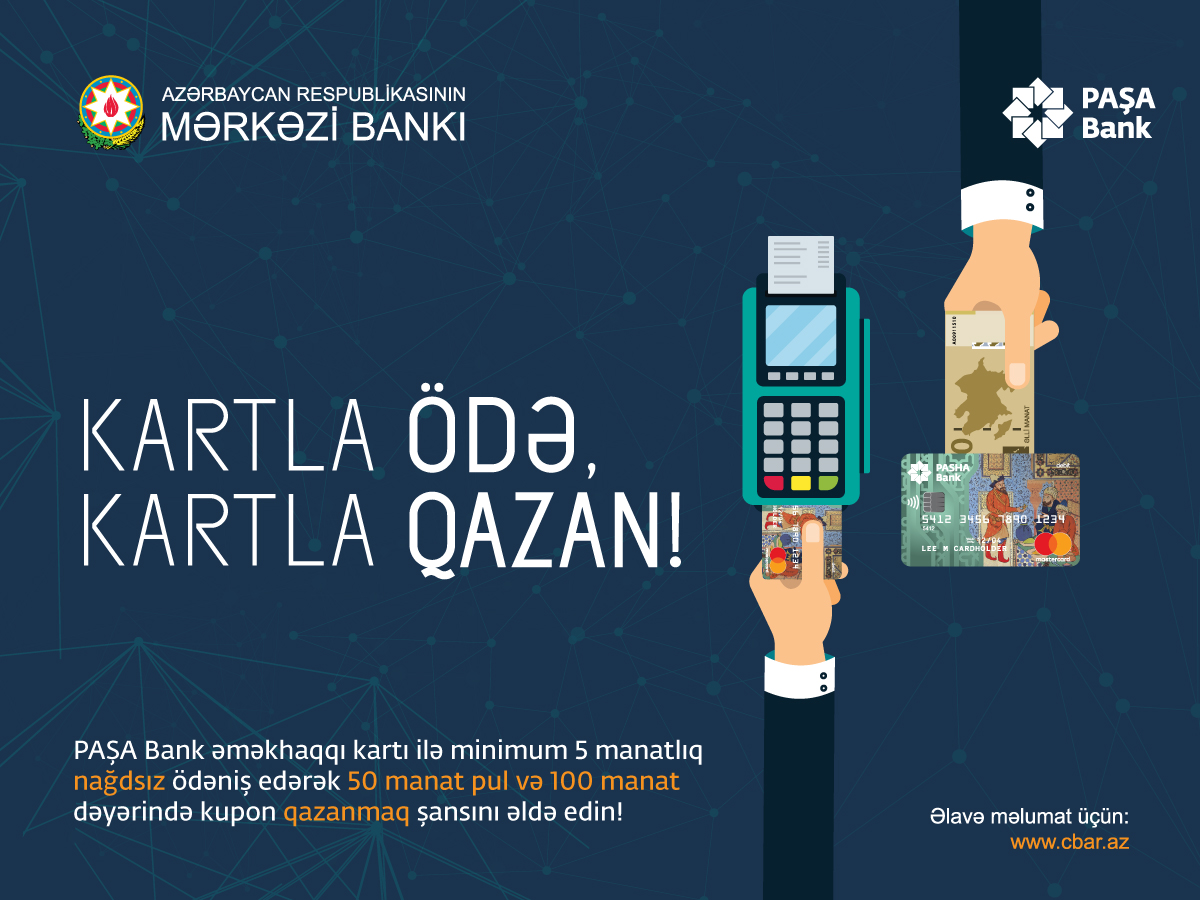Pasha Bank: (999, 75, 1074, 151), (907, 461, 931, 485)
